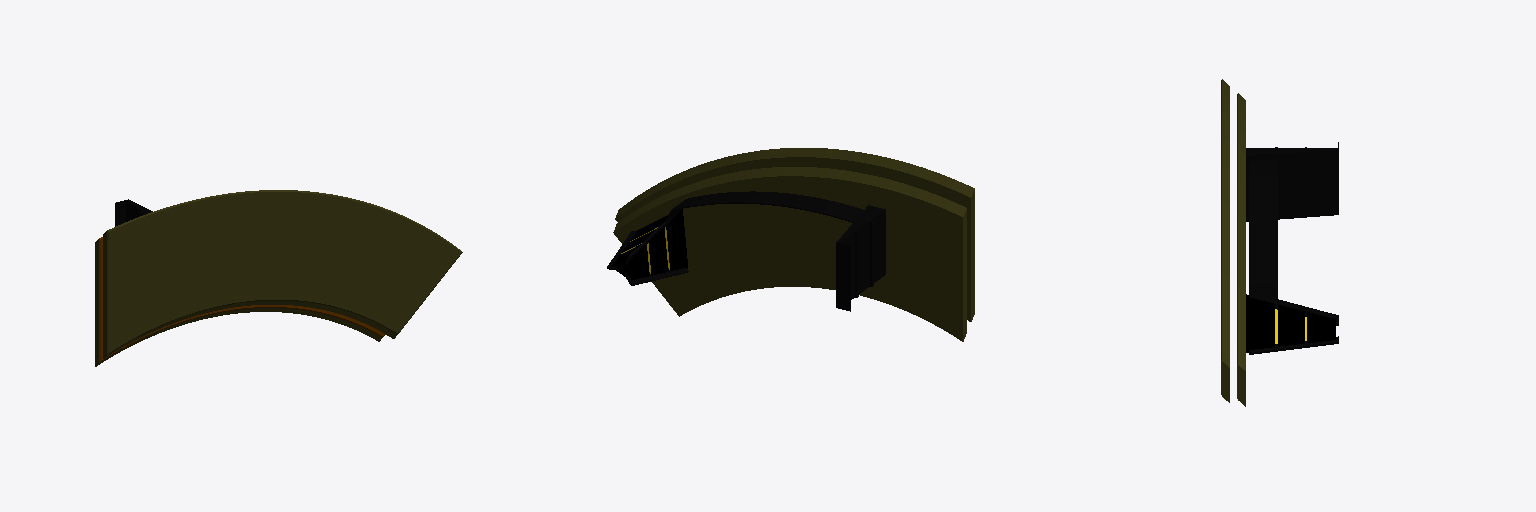
The model's file is table1.obj.
3 renders of one model, left to right at view 1: azimuth 30°, elevation 25°; view 2: azimuth 150°, elevation 25°; view 3: azimuth 270°, elevation 25°, orthographic.
Parts seen in each view (by area): view 1: Shape06; view 2: Shape06; view 3: Shape06.
Boxes of the visible parts, x1,y1,x2,y2 form: Shape06: [95, 190, 462, 366]; Shape06: [607, 148, 974, 341]; Shape06: [1221, 79, 1338, 406].
Size of the model in its own units: 27.61 by 14.71 by 7.89.